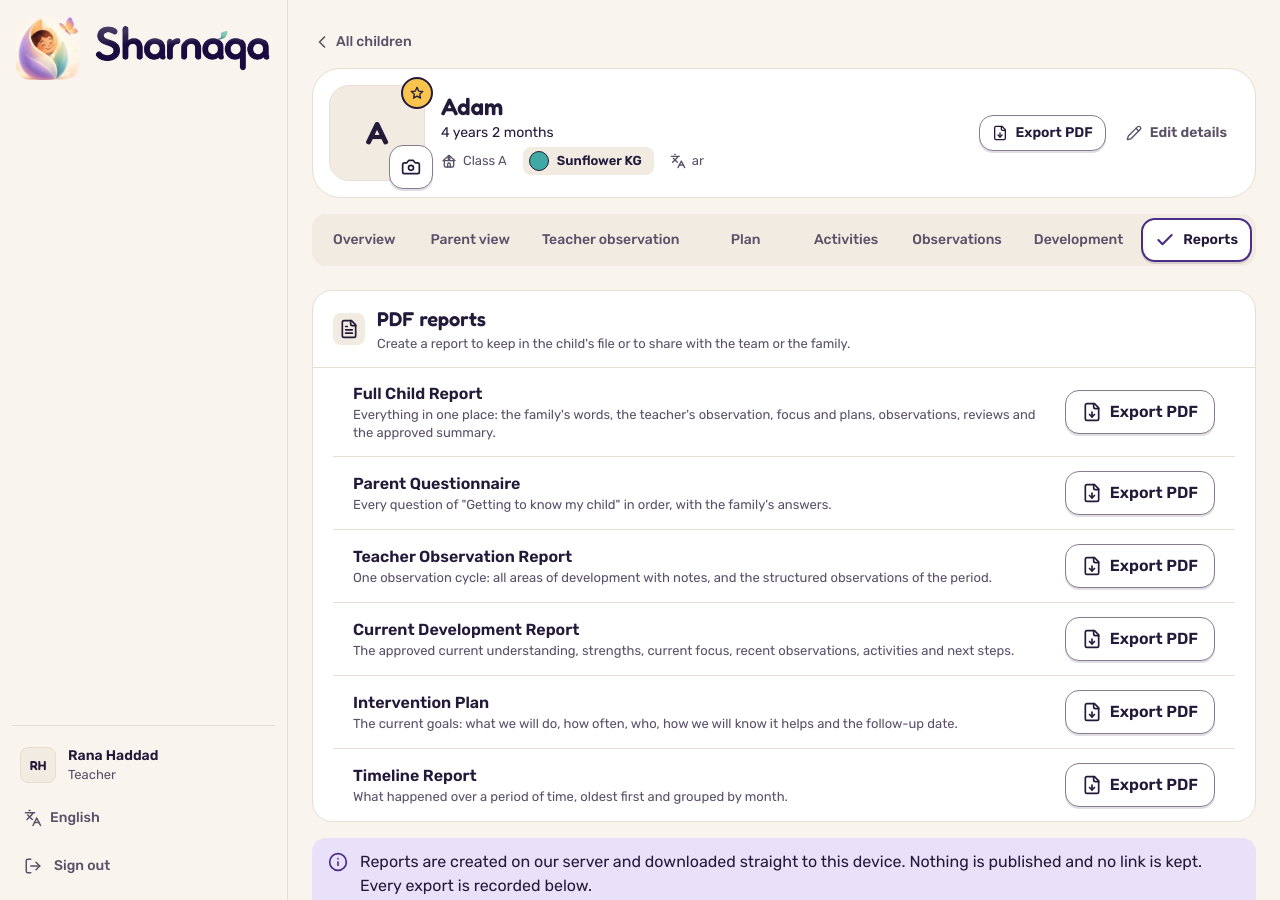
Test: Reports tab › blocks a reversed or future date range
The width and height of the screenshot is (1280, 900).
Click the button with aria-label "Export PDF: Timeline Report" at (1140, 785), box [1065,763,1215,807]
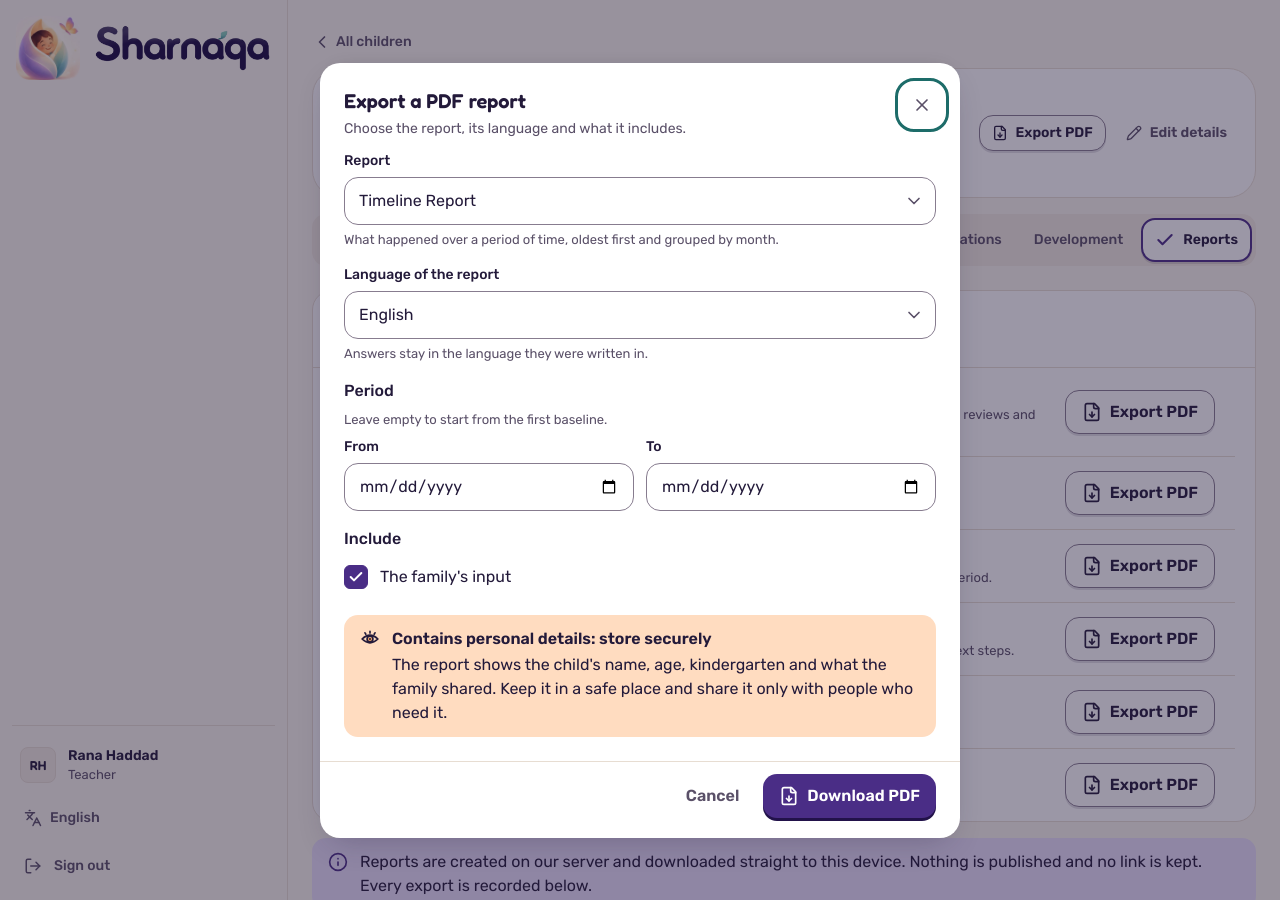
Type "2026-09-10" into the date field labelled "From" at (489, 486), box [344,462,634,510]
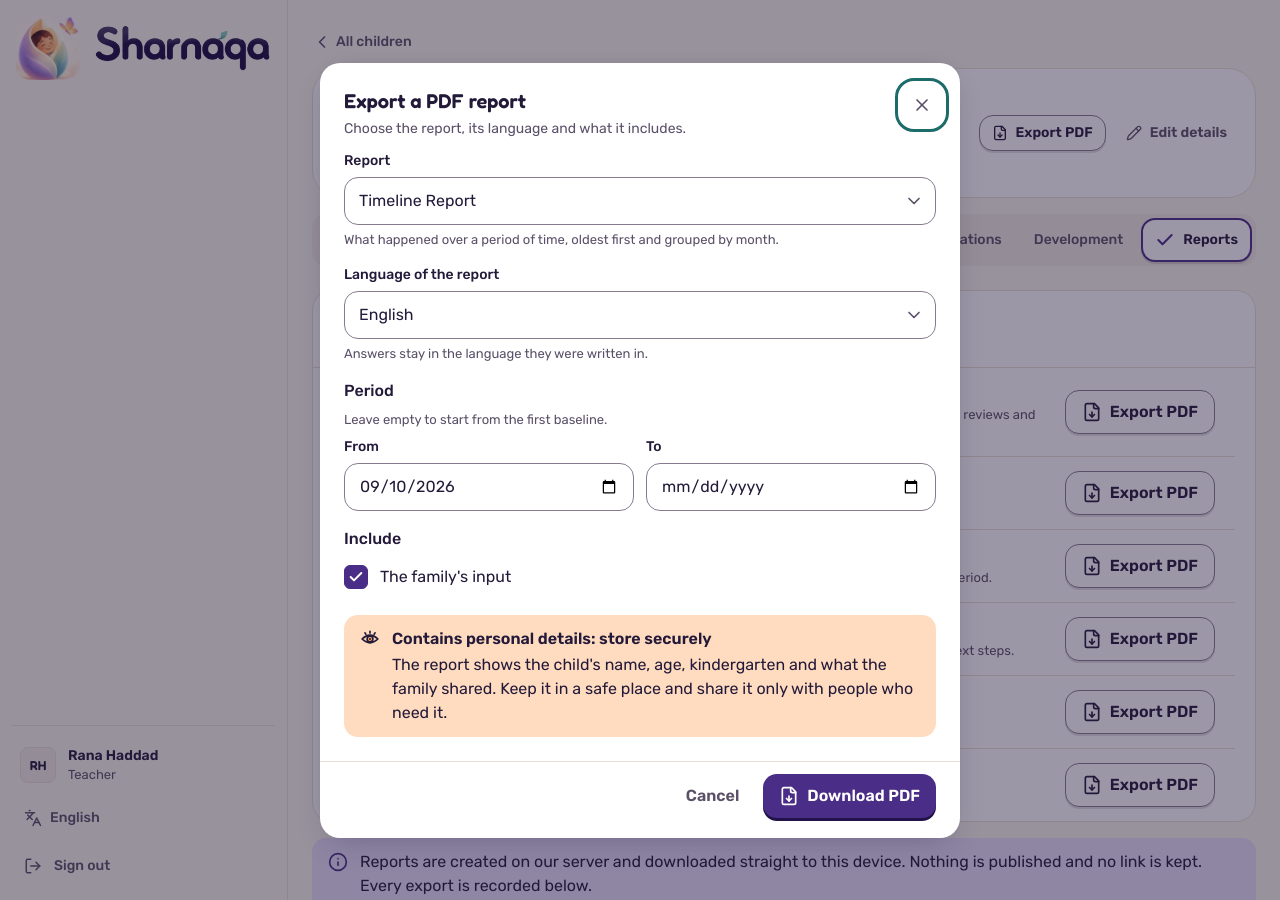
Type "2026-09-01" into the date field labelled "To" at (791, 486), box [646,462,936,510]
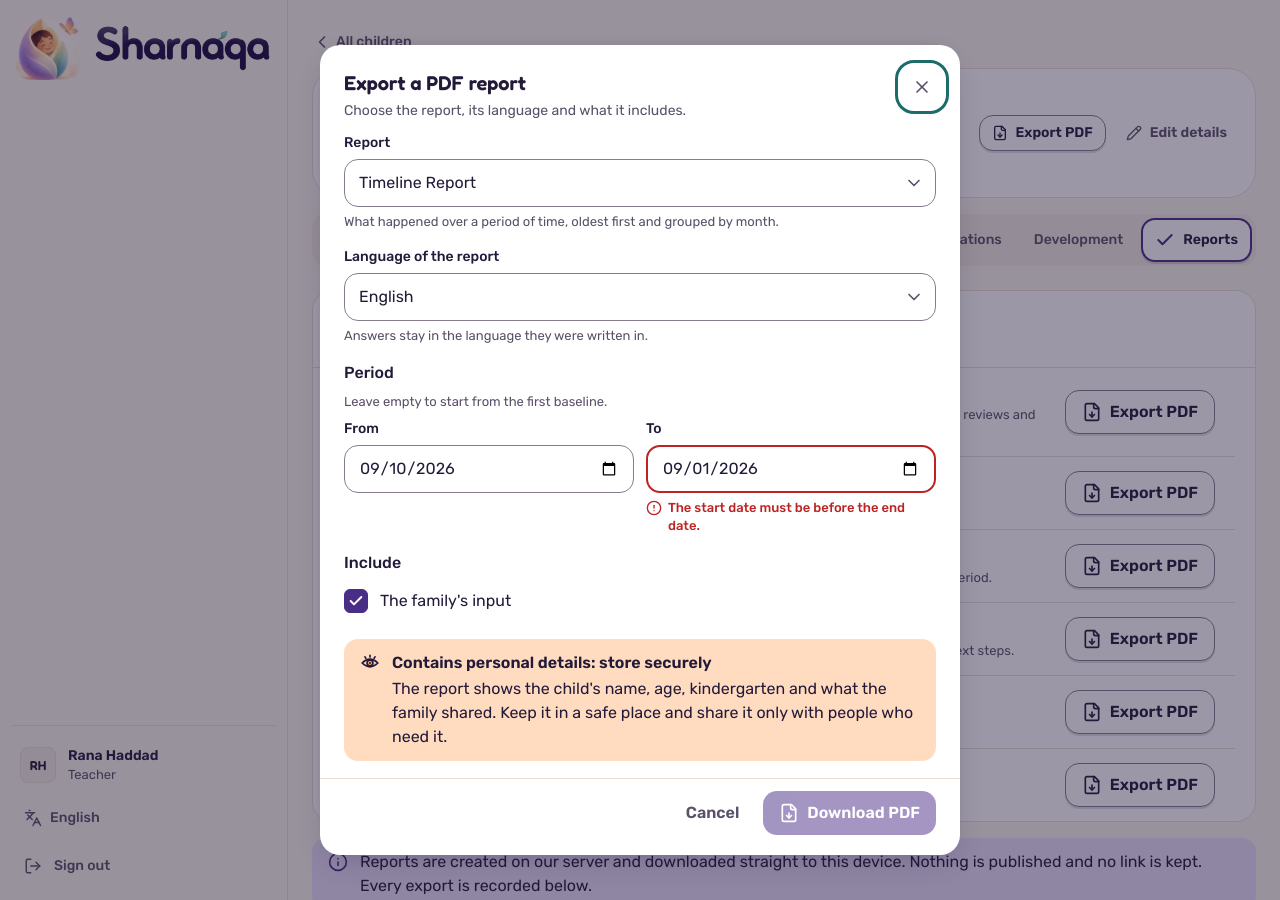
expect the text "The start date must be before the end date." is shown: met, box [646,499,936,535]
expect the button "Download PDF" is disabled: met, box [763,791,936,835]
